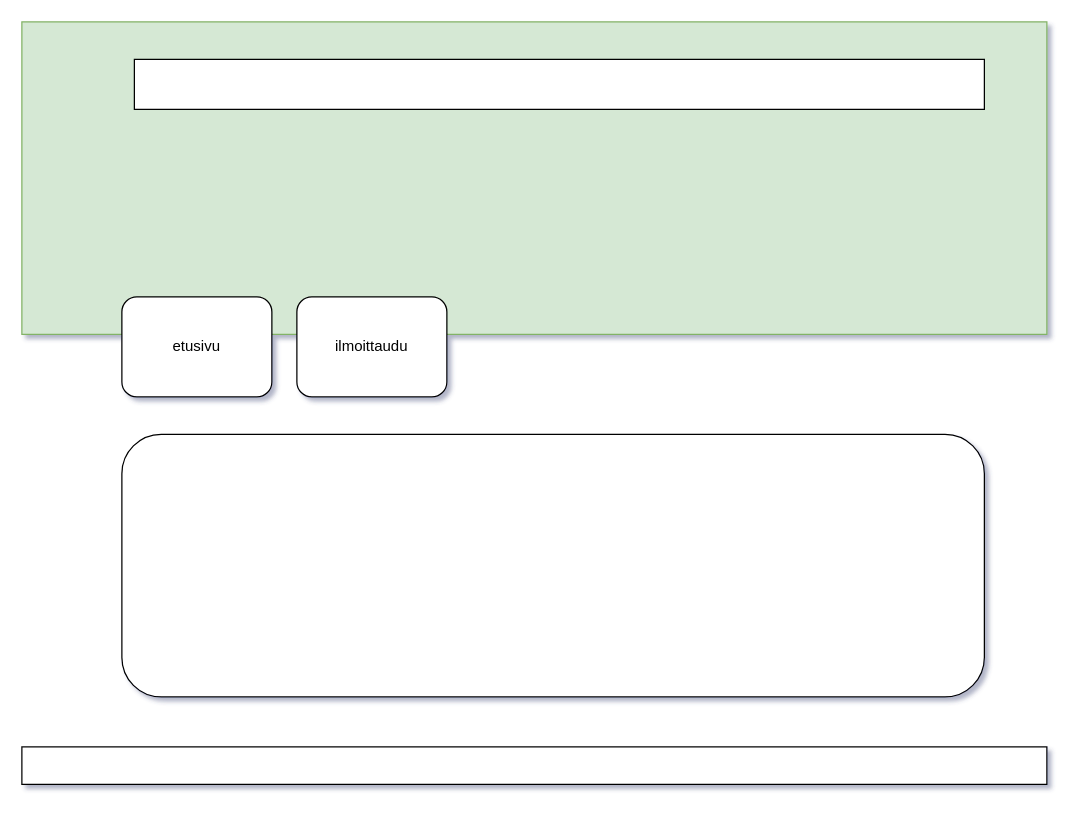
This 1076x814 diagram has some shape labels left out. Here are the shapes that lost their labels. From the top down, the centre of each, then its label:
pixel 558 83: seminaari HINNASTO logo
pixel 552 565: hinnat
